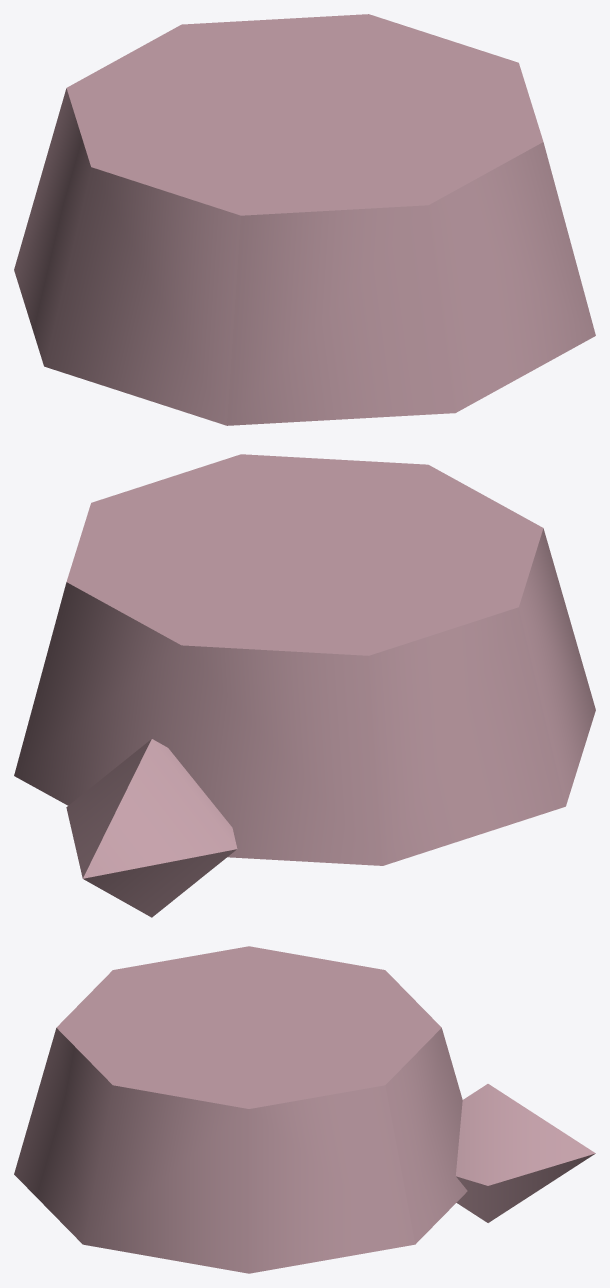
File: hat_bandana.glb
3 renders of one model, top to bottom at view 1: azimuth 30°, elevation 25°; view 2: azimuth 150°, elevation 25°; view 3: azimuth 270°, elevation 25°, orthographic. The views are drawn at different scales.
Parts seen in each view (by area): view 1: hat_bandana; view 2: hat_bandana; view 3: hat_bandana.
Part boxes in pixels (x1=…): hat_bandana: x1=14, y1=14, x2=595, y2=425; hat_bandana: x1=14, y1=454, x2=595, y2=917; hat_bandana: x1=14, y1=946, x2=595, y2=1273.
Size of the model in its own units: 0.1647 by 0.0756 by 0.2039.
